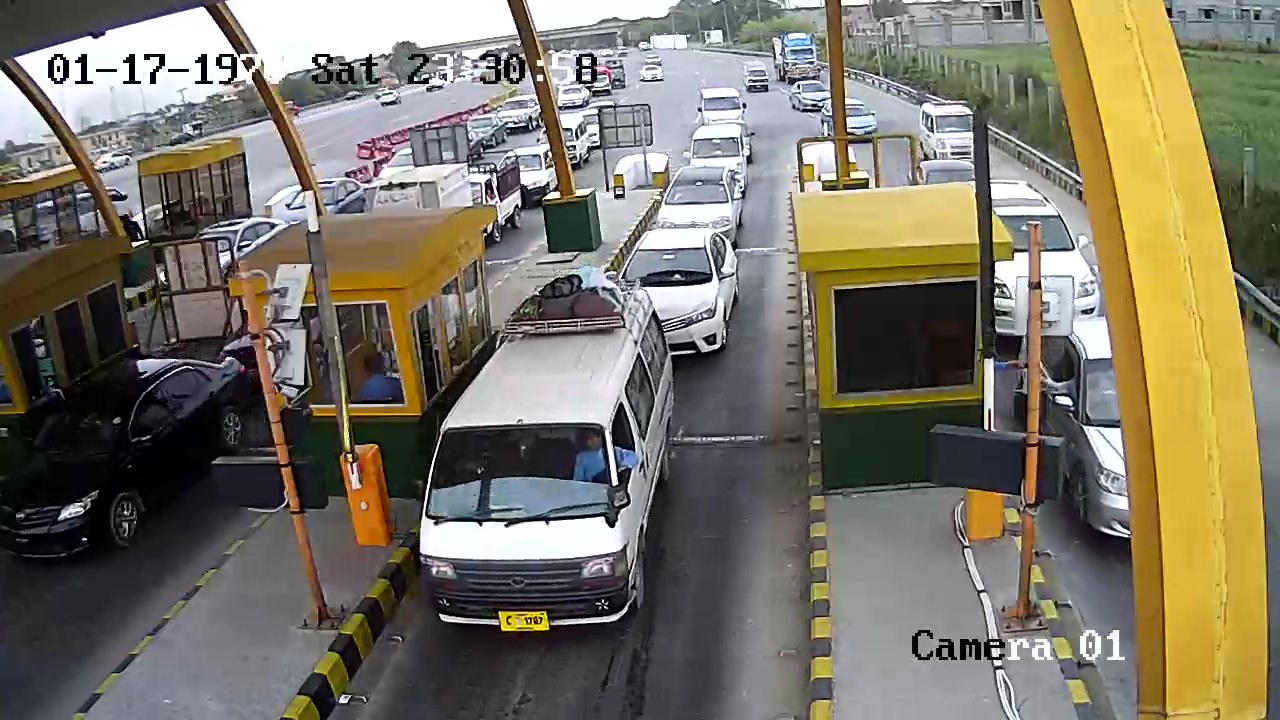F2: (413, 264, 675, 651)
